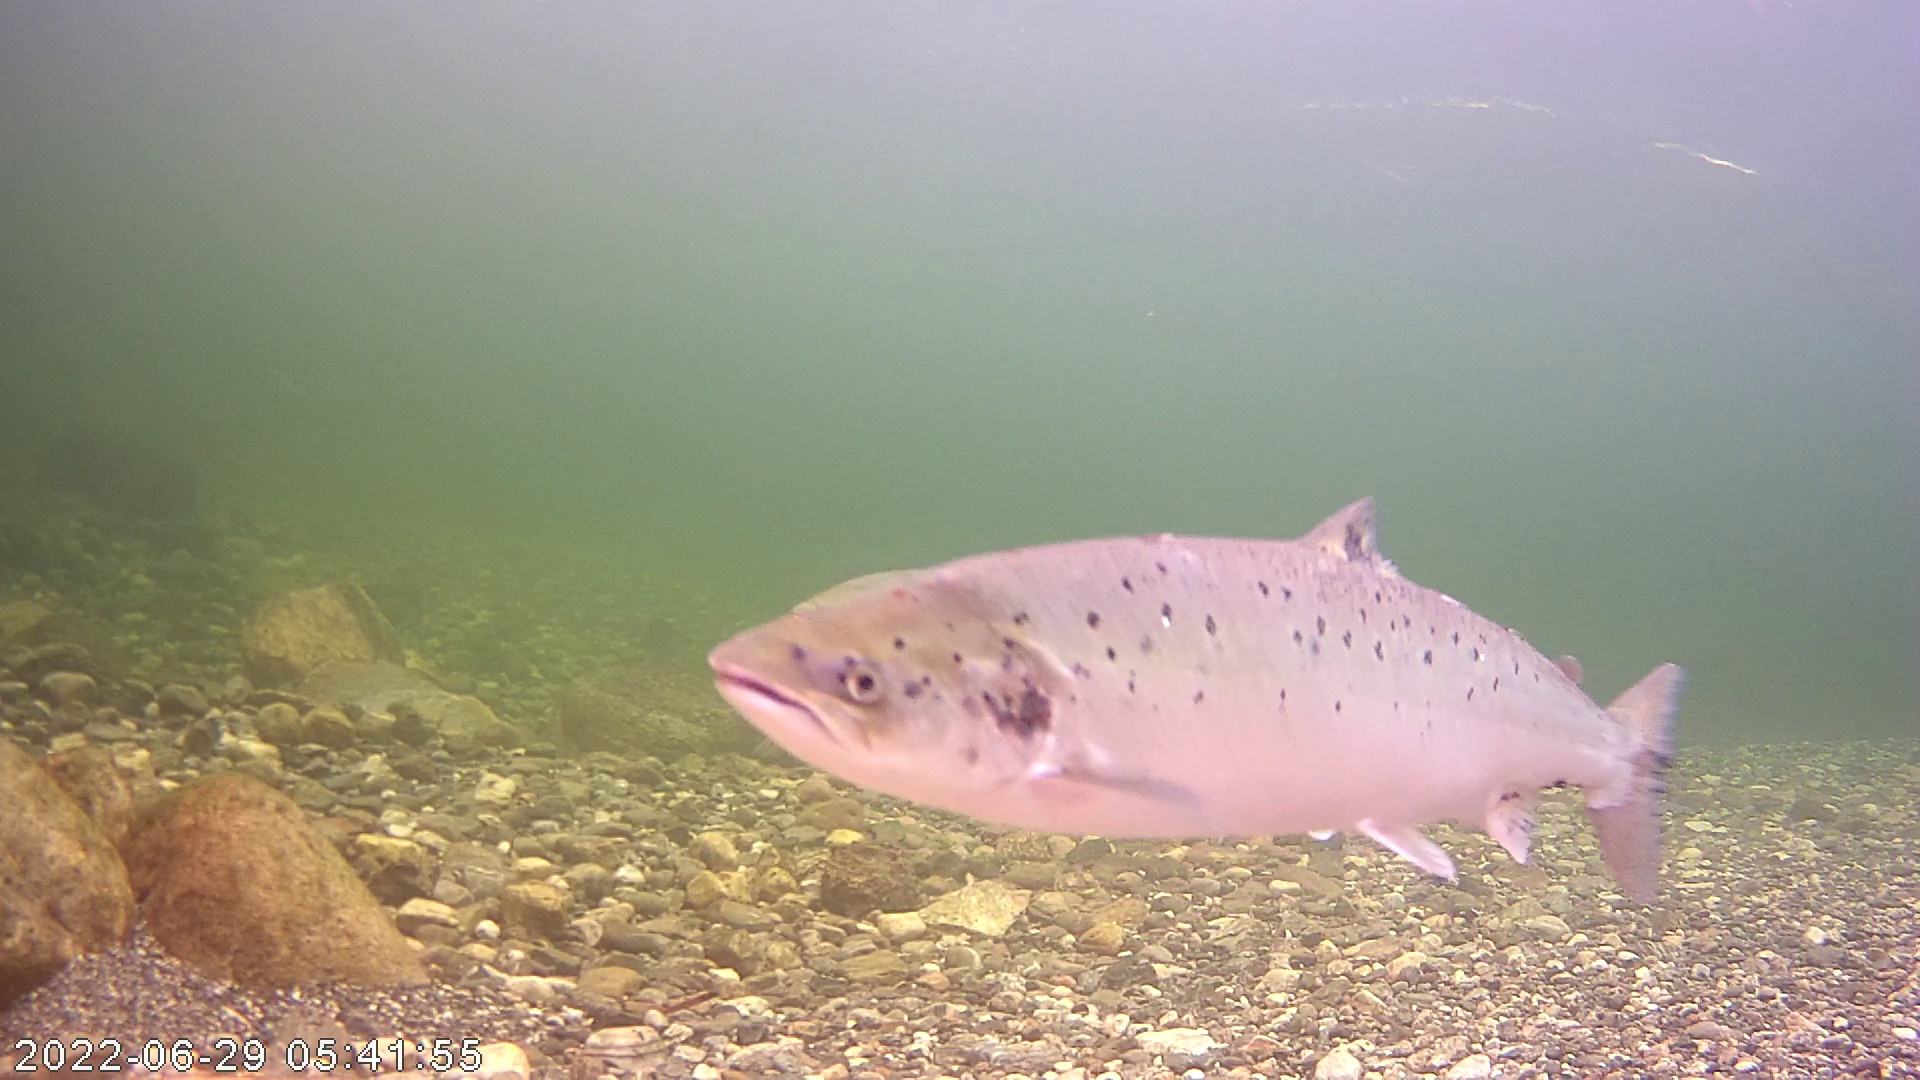salmon: (712, 359, 1701, 857)
